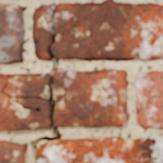brick: (36, 137, 162, 162), (136, 71, 162, 128), (0, 4, 24, 63), (0, 141, 27, 162)
broken_brick: (52, 0, 162, 61), (54, 67, 130, 128), (0, 94, 51, 131), (31, 2, 59, 61), (5, 72, 50, 96), (0, 72, 6, 88)
crack: (0, 2, 67, 160), (64, 123, 81, 127), (114, 123, 121, 126)
